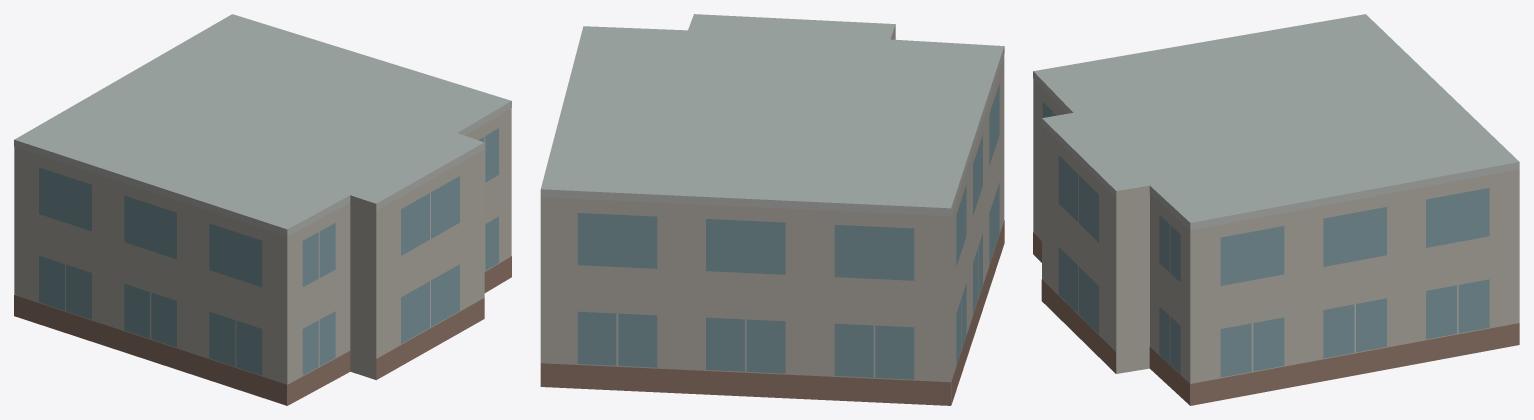
File: survey-upis-32856687.glb
3 renders of one model, left to right at view 1: azimuth 30°, elevation 25°; view 2: azimuth 150°, elevation 25°; view 3: azimuth 270°, elevation 25°, orthographic. The views are drawn at different scales.
Parts seen in each view (by area): view 1: survey-upis-32856687.tmp; view 2: survey-upis-32856687.tmp; view 3: survey-upis-32856687.tmp.
Boxes of the visible parts, bbox=[...] form: survey-upis-32856687.tmp: bbox=[14, 14, 511, 405]; survey-upis-32856687.tmp: bbox=[540, 14, 1004, 405]; survey-upis-32856687.tmp: bbox=[1033, 14, 1519, 405].
Bounding box in the file's own units: 14.95 × 6.1 × 14.71.
